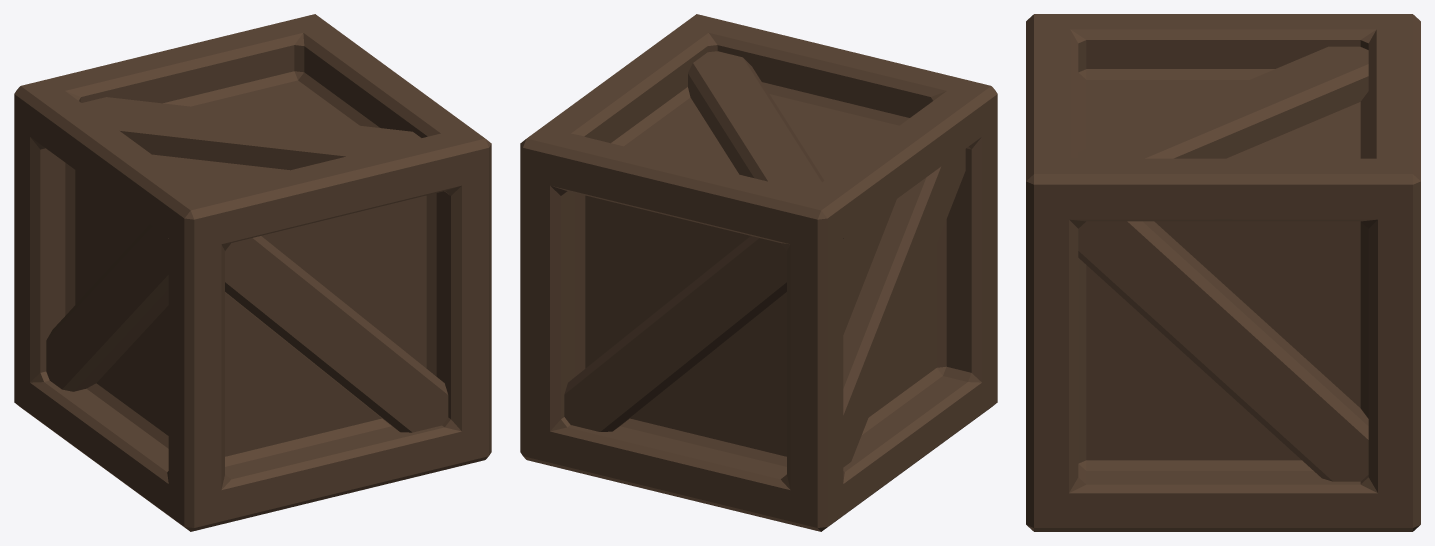
Rendered from CaixaMadeira.fbx.
3 views of the same model, side by side, from view 1: azimuth 30°, elevation 25°; view 2: azimuth 150°, elevation 25°; view 3: azimuth 270°, elevation 25° (orthographic). The views are drawn at different scales.
Parts seen in each view (by area): view 1: CaixaMadeira; view 2: CaixaMadeira; view 3: CaixaMadeira.
Part boxes in pixels (x1,y1,x2,y2): CaixaMadeira: [14, 14, 491, 531]; CaixaMadeira: [520, 14, 997, 531]; CaixaMadeira: [1026, 14, 1420, 531].
Size of the model in its own units: 392 by 392 by 392.
